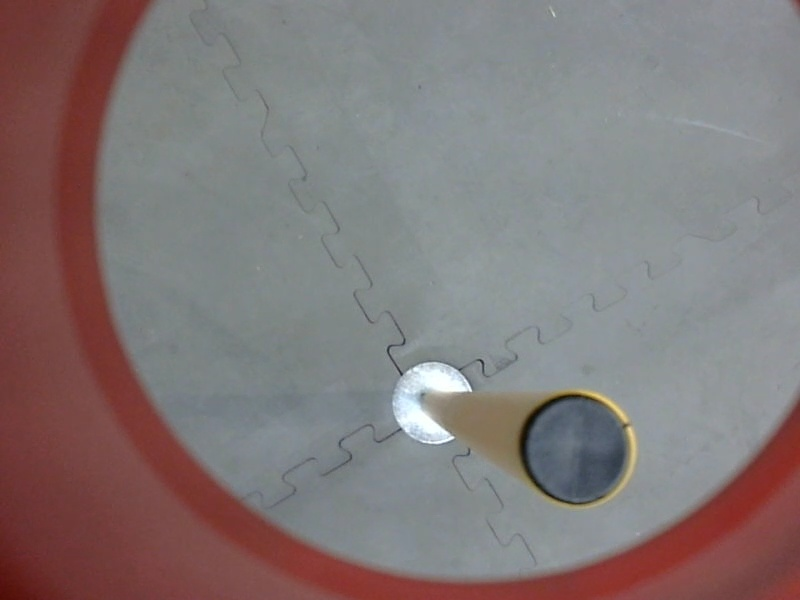tip: (515, 375, 644, 515)
